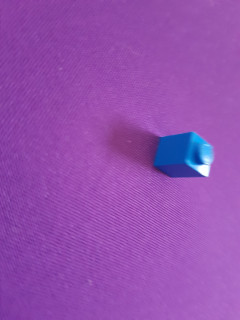1x1 blue: (151, 130, 216, 181)
